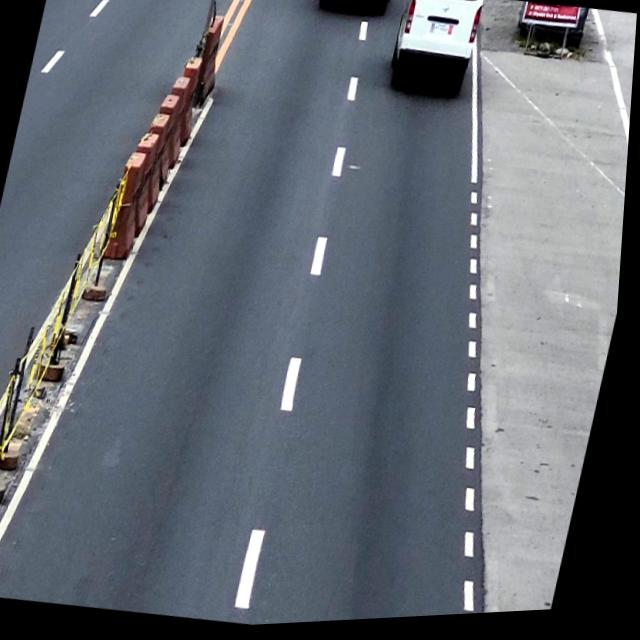Car: (385, 0, 486, 109)
License-Plate: (433, 26, 451, 41)
